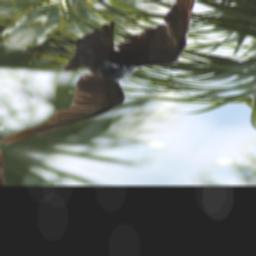Crow: (0, 0, 246, 163)
